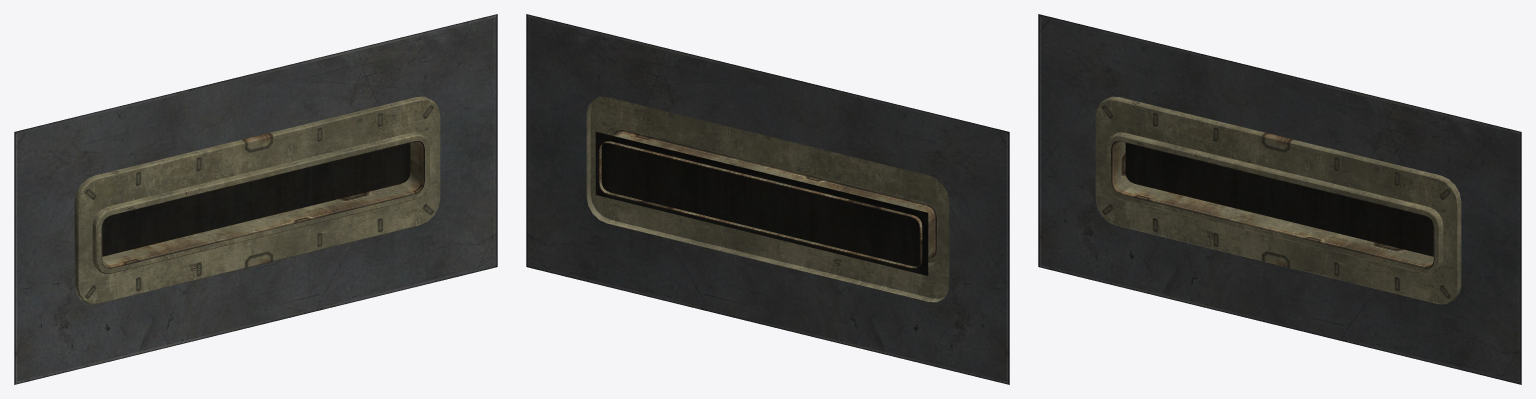
File: living_area_window_slit.dae
3 renders of one model, left to right at view 1: azimuth 30°, elevation 25°; view 2: azimuth 150°, elevation 25°; view 3: azimuth 330°, elevation 25°, orthographic.
Parts seen in each view (by area): view 1: window_slit, glass; view 2: window_slit, glass; view 3: window_slit, glass.
Boxes of the visible parts, <box> form: window_slit: <box>14,14,497,384</box>; glass: <box>102,143,410,256</box>; window_slit: <box>526,14,1009,384</box>; glass: <box>595,132,928,275</box>; window_slit: <box>1038,14,1521,384</box>; glass: <box>1125,143,1433,256</box>.
Size of the model in its own units: 4 by 2 by 0.2295.
